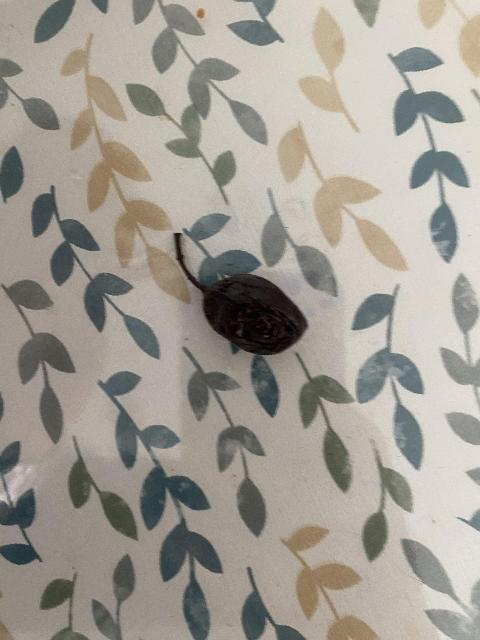Organik: (171, 222, 308, 359)
